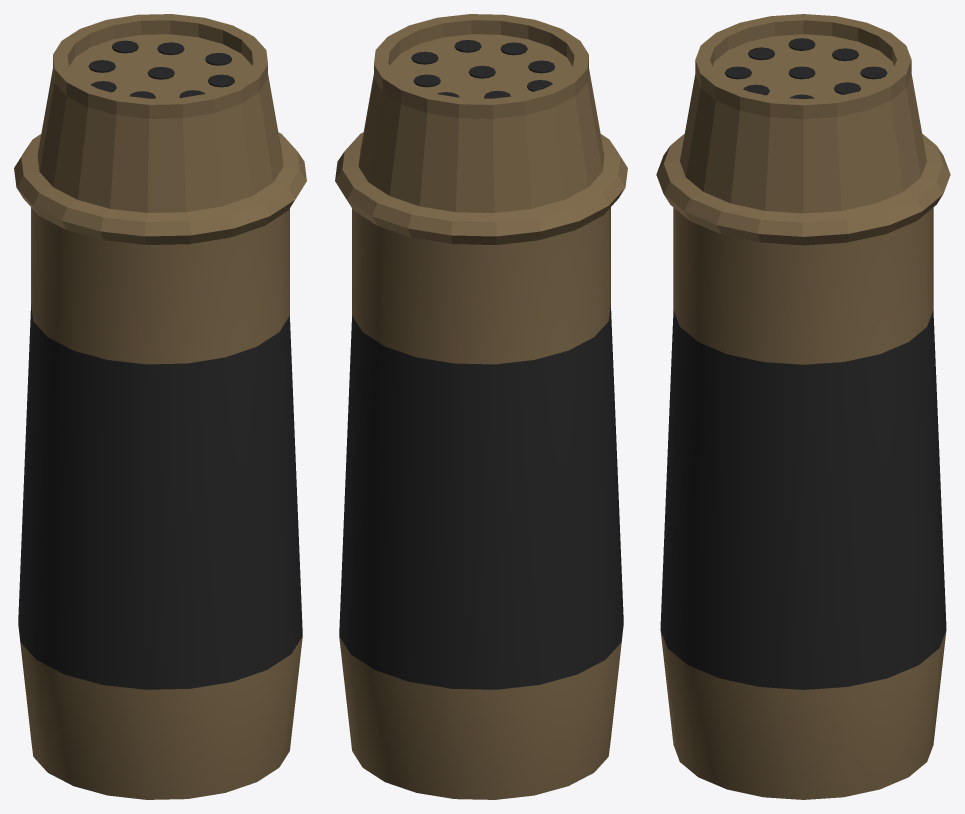
Rendered from PepperShaker.fbx.
The picture shows the model from 3 angles, left to right: view 1: azimuth 30°, elevation 25°; view 2: azimuth 150°, elevation 25°; view 3: azimuth 270°, elevation 25°; orthographic projection.
Visible parts, largest first — view 1: PepperShaker; view 2: PepperShaker; view 3: PepperShaker.
Boxes of the visible parts, bbox=[...] form: PepperShaker: bbox=[14, 14, 306, 799]; PepperShaker: bbox=[335, 14, 627, 799]; PepperShaker: bbox=[656, 14, 950, 799].
Bounding box in the file's own units: 0.00253 × 0.0065 × 0.00253.
